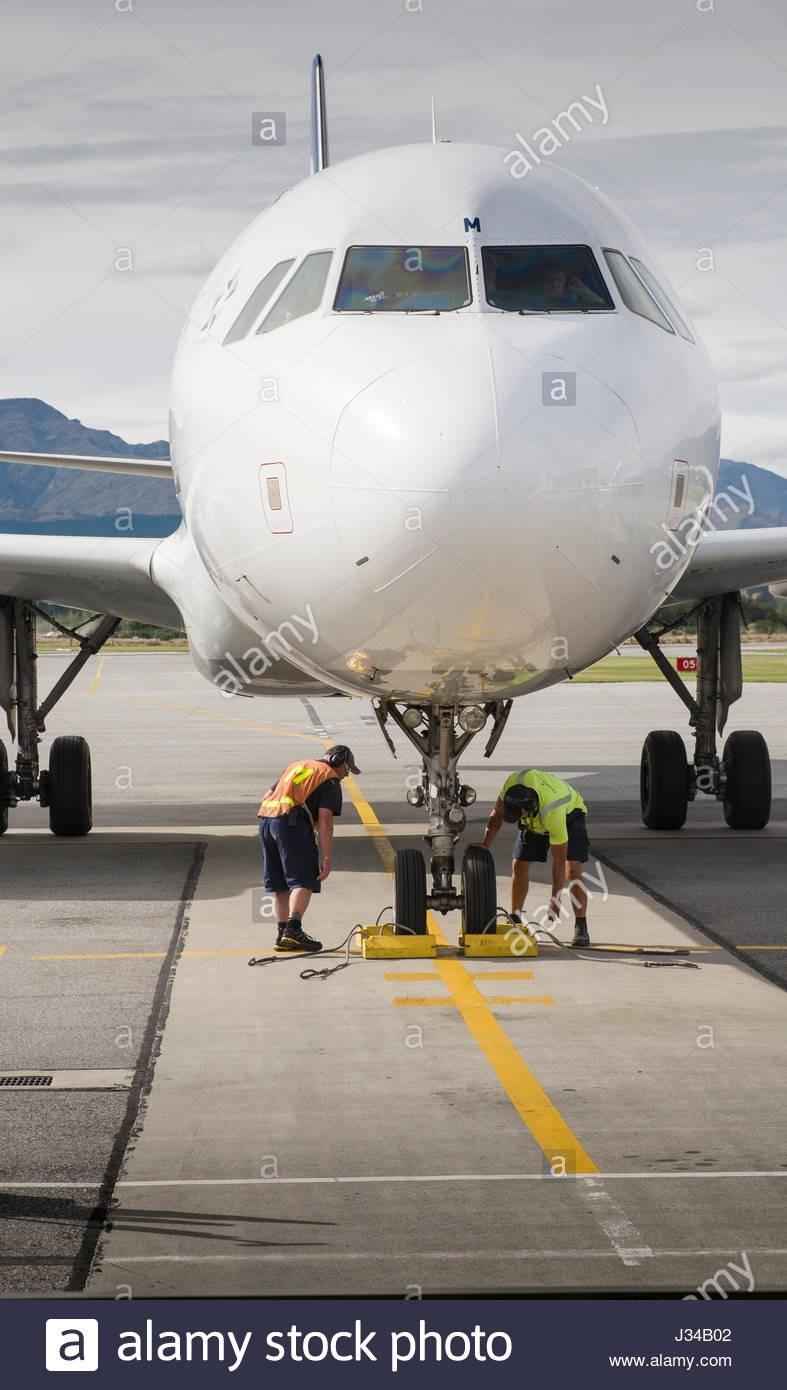boots: (362, 930, 442, 962), (462, 932, 544, 962)
wheels: (720, 730, 771, 826), (639, 729, 689, 825), (46, 735, 93, 837), (461, 846, 496, 941), (392, 848, 427, 939)
